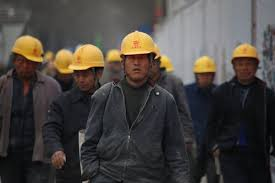Person_wearing_helmet: (110, 25, 160, 61)
